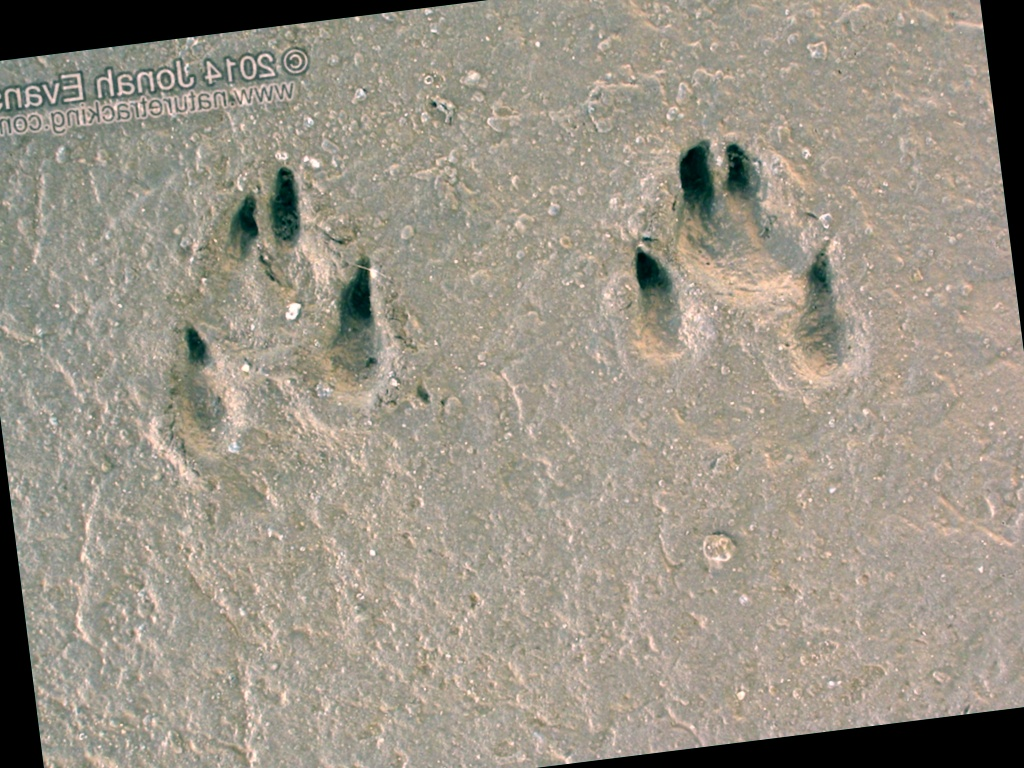lapin: (100, 130, 467, 537), (572, 91, 898, 466)
